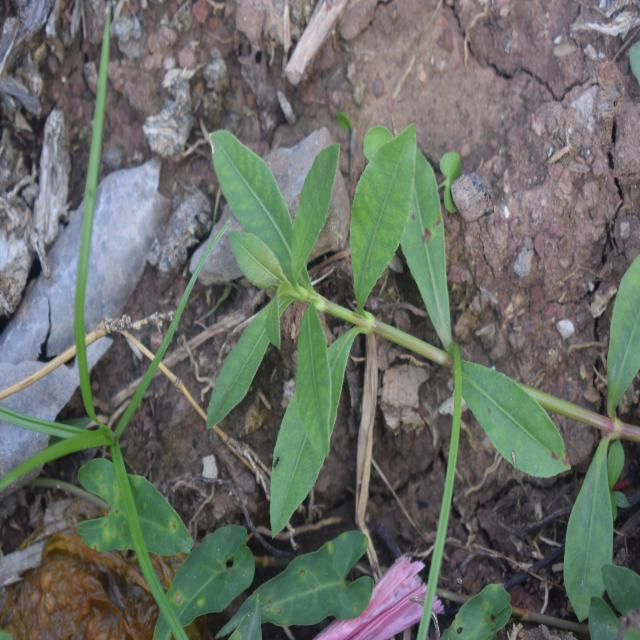Alligatorweed: (208, 94, 526, 502)
